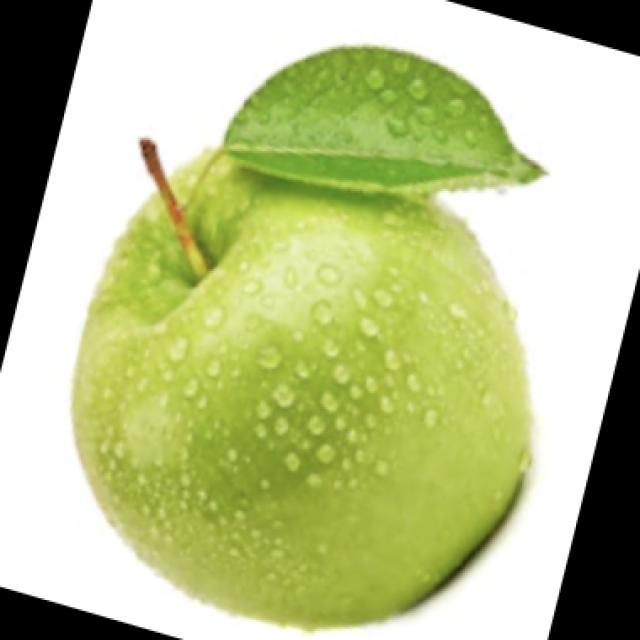Fresh Apple: (101, 166, 553, 640)
